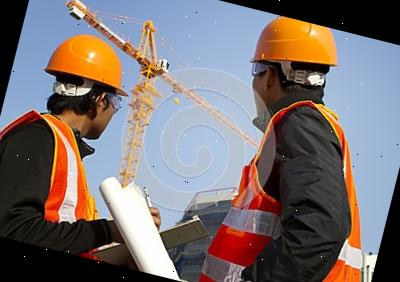helmet: (39, 25, 143, 101), (250, 12, 350, 85)
wear: (201, 109, 400, 282), (0, 103, 121, 258)
